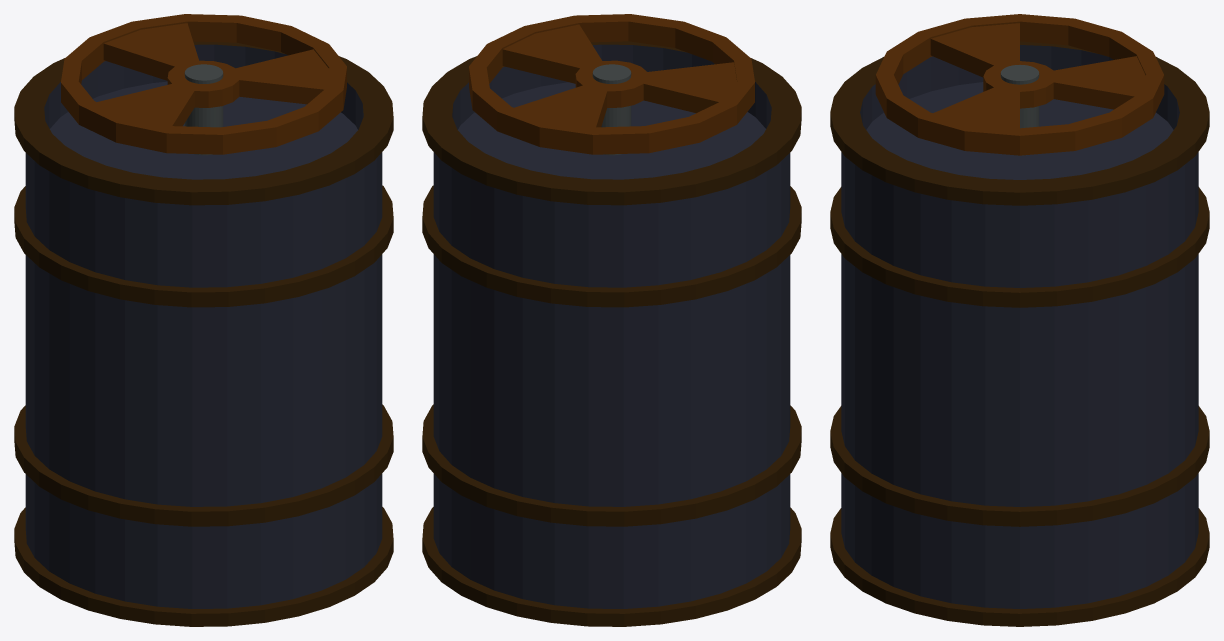
The model's file is crank.fbx.
3 renders of one model, left to right at view 1: azimuth 30°, elevation 25°; view 2: azimuth 150°, elevation 25°; view 3: azimuth 270°, elevation 25°, orthographic.
Parts seen in each view (by area): view 1: crank base, crank wheel; view 2: crank base, crank wheel; view 3: crank base, crank wheel.
Boxes of the visible parts, x1,y1,x2,y2 form: crank base: (14,41,393,626); crank wheel: (61,14,346,154); crank base: (422,41,801,626); crank wheel: (469,14,754,154); crank base: (830,41,1209,626); crank wheel: (875,14,1164,155).
Bounding box in the file's own units: 80.46 × 111 × 80.46.
